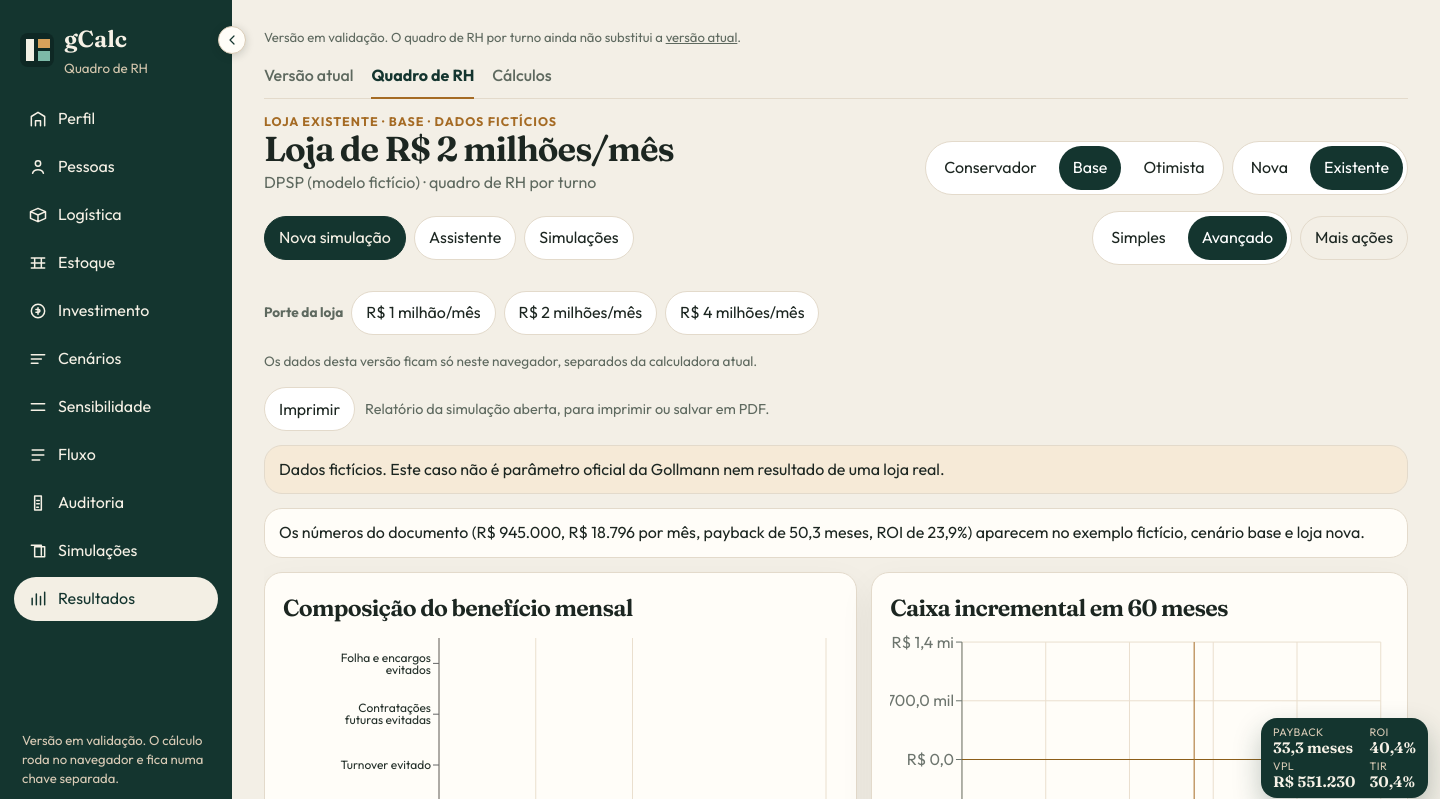
Scenario: versão em validação › mostra o aviso, o quadro e não grava a chave da calculadora atual
Expected: the element with test id "rh-validation-notice" shows "Versão em validação", [264,29,663,45]
Expected: the element with test id "store-presets" is shown, [264,283,1408,344]
Click the button with class "nav-label" at {"x": 116, "y": 167}, box [14,145,218,189]
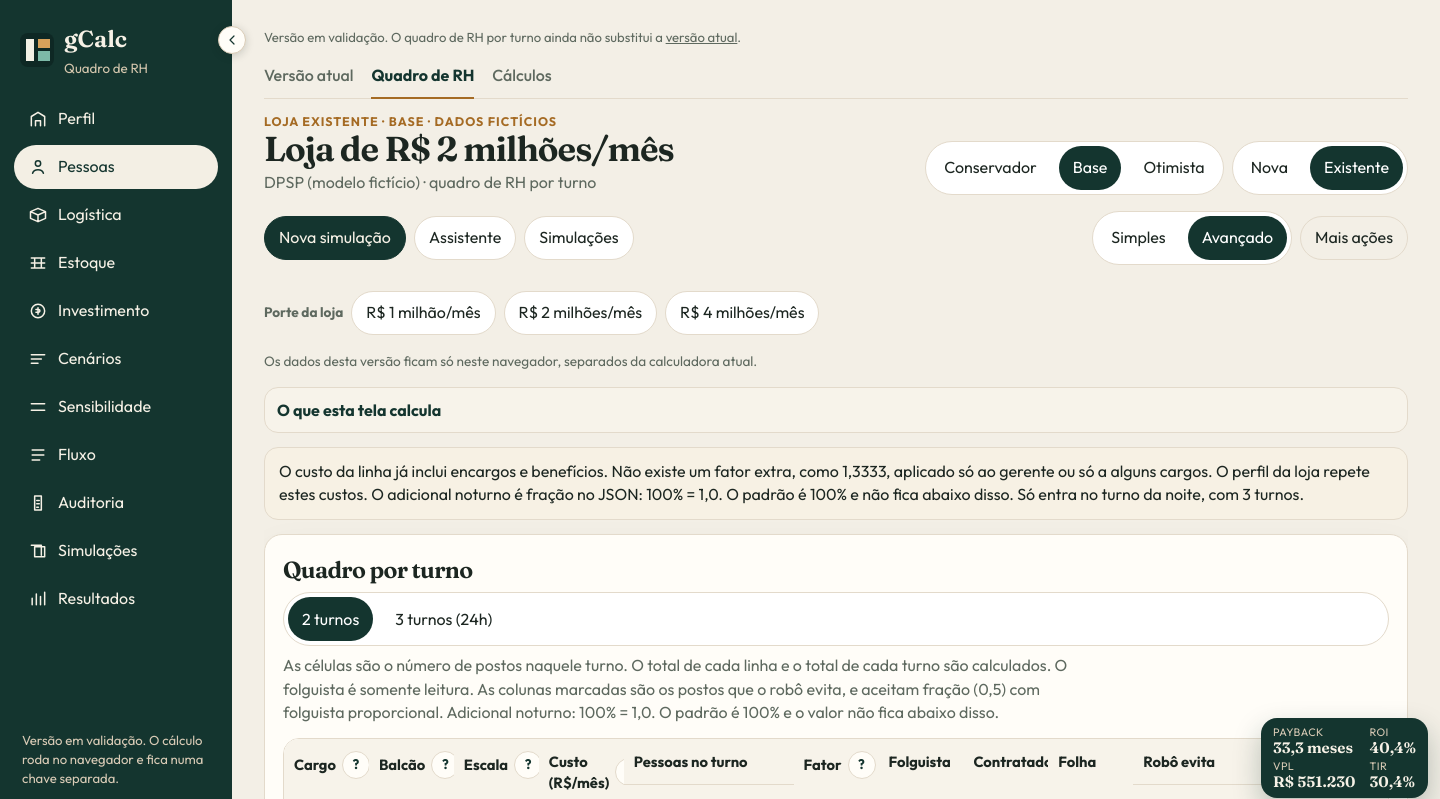
Now the button with test id "shift-count-2" is shown, box [288,597,373,641]
Click the button with test id "shift-count-3" at {"x": 444, "y": 619}, box [381,597,506,641]
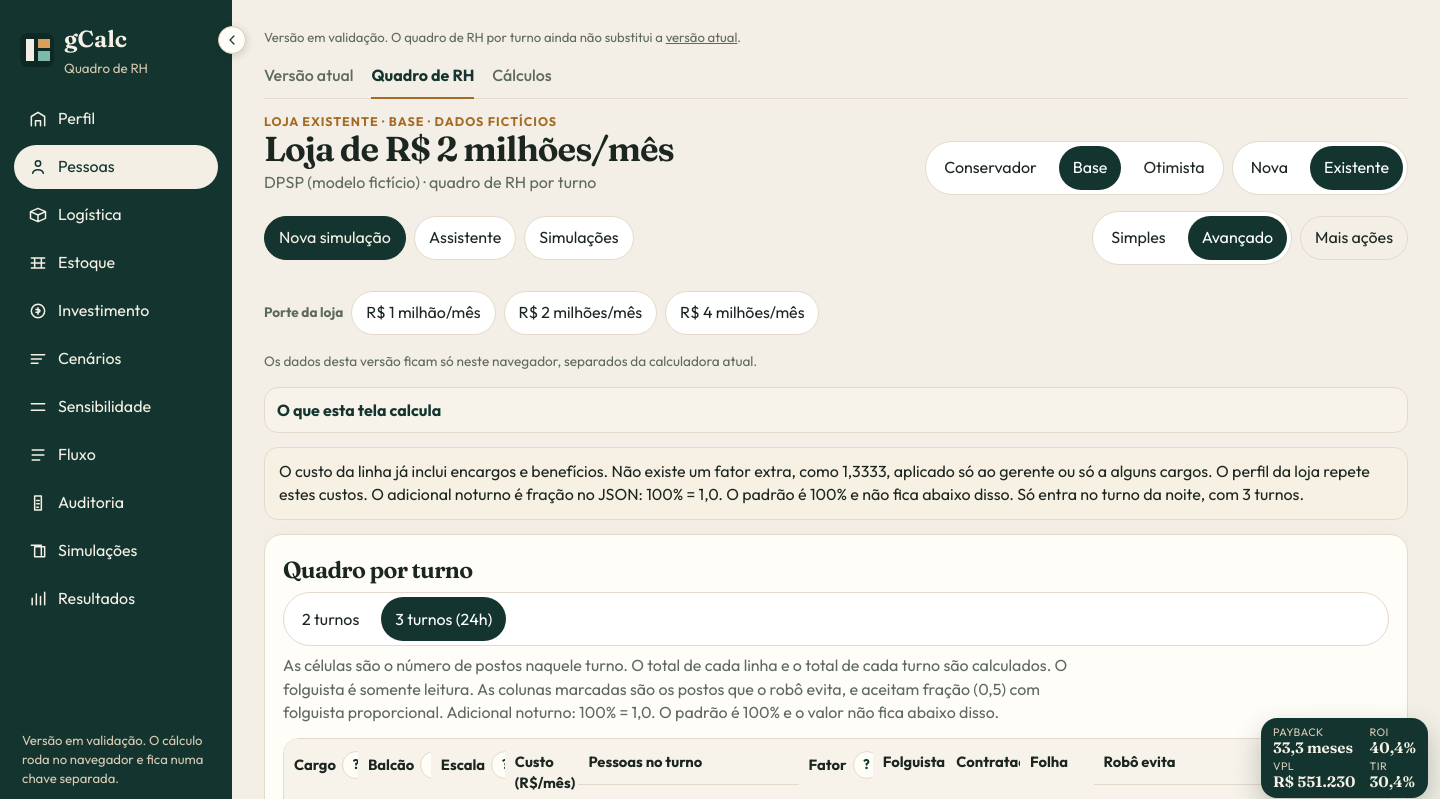
Click the button with class "nav-label" at {"x": 116, "y": 599}, box [14,577,218,621]
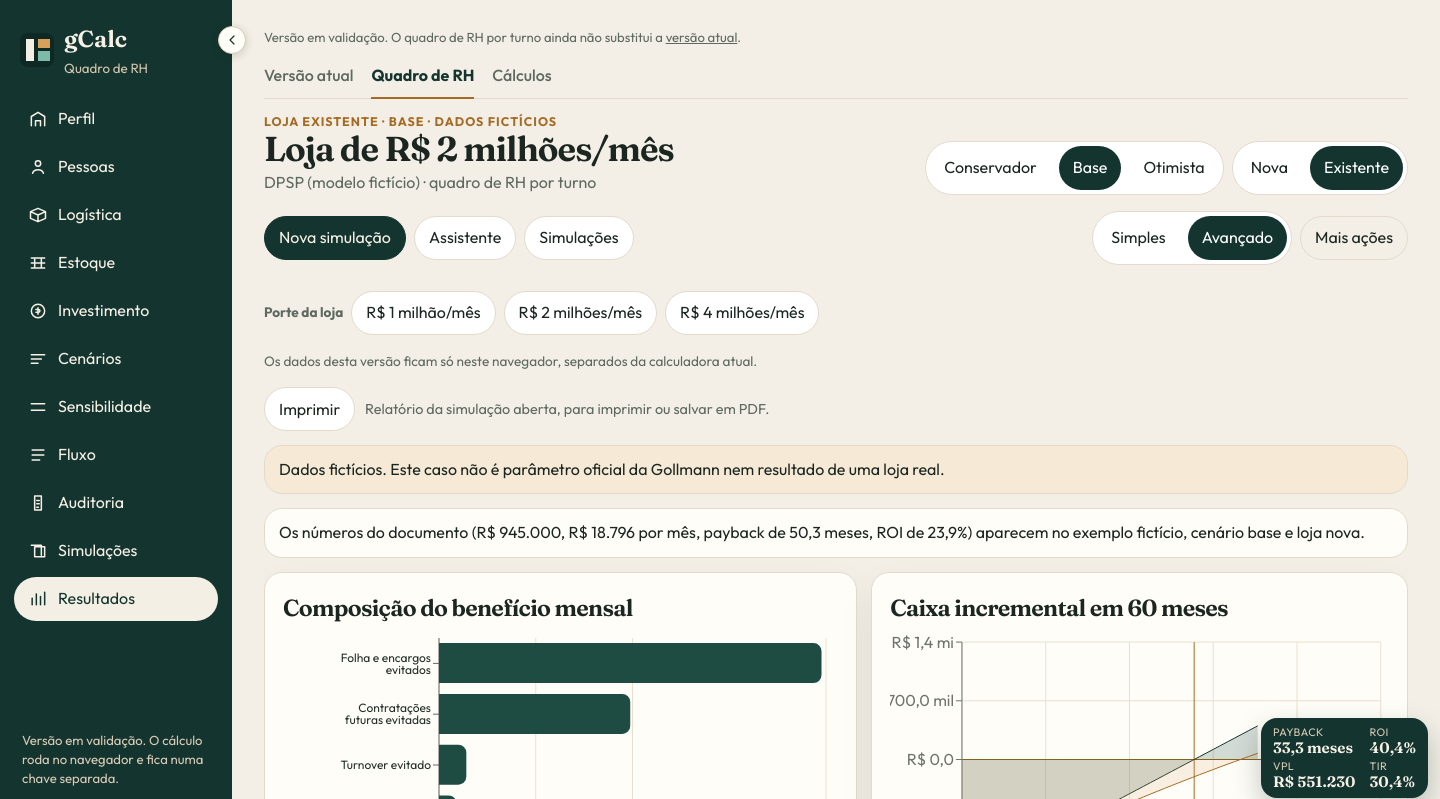
Expected: the element with test id "store-presets" is shown, [264,283,1408,344]
Now the element with test id "shift-count" is gone
